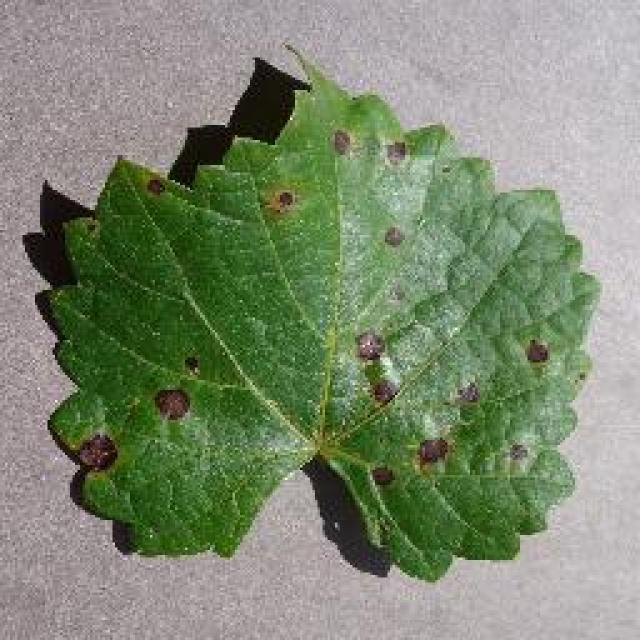Grape___Black_rot: (36, 43, 606, 586)
